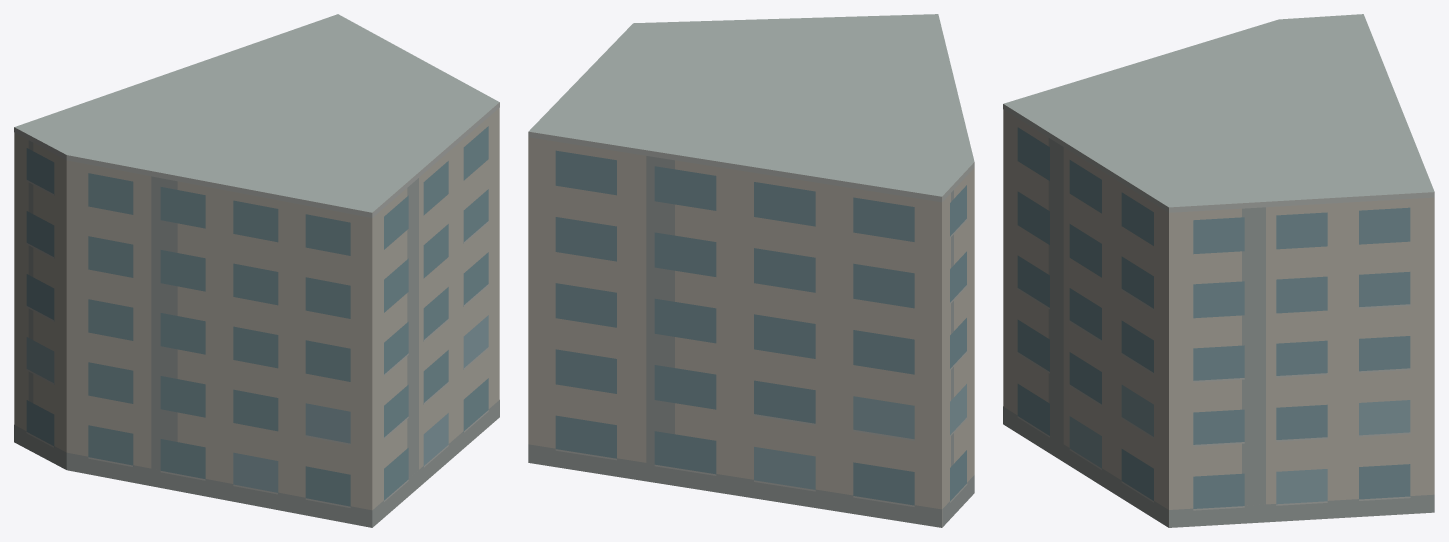
Rendered from survey-upis-33036040.glb.
3 views of the same model, side by side, from view 1: azimuth 30°, elevation 25°; view 2: azimuth 150°, elevation 25°; view 3: azimuth 270°, elevation 25° (orthographic). The views are drawn at different scales.
Visible parts, largest first — view 1: survey-upis-33036040.tmp; view 2: survey-upis-33036040.tmp; view 3: survey-upis-33036040.tmp.
Part boxes in pixels (x1=…): survey-upis-33036040.tmp: x1=14, y1=14, x2=499, y2=527; survey-upis-33036040.tmp: x1=528, y1=14, x2=974, y2=527; survey-upis-33036040.tmp: x1=1003, y1=14, x2=1434, y2=527.
Bounding box in the file's own units: 18.52 × 14.3 × 17.46.
